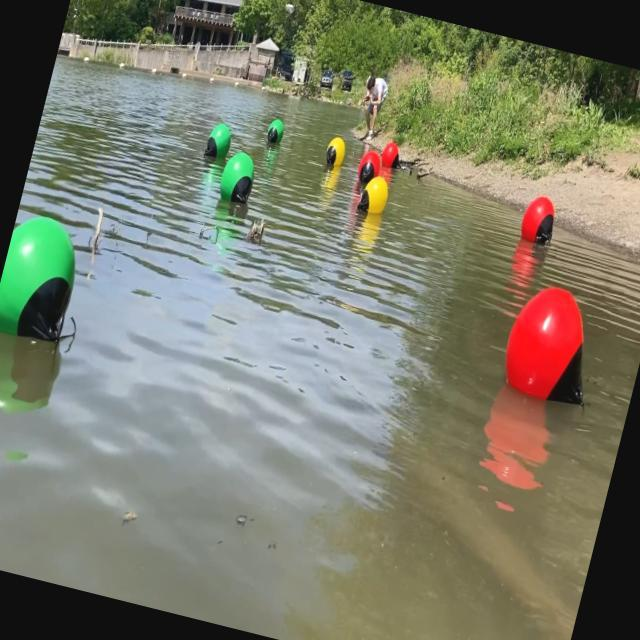buoy: (494, 276, 608, 411), (0, 208, 89, 348), (217, 147, 260, 205), (517, 194, 559, 246), (355, 172, 393, 219), (204, 120, 234, 162), (355, 148, 384, 187), (378, 138, 404, 171), (322, 136, 348, 168), (266, 117, 286, 145)
